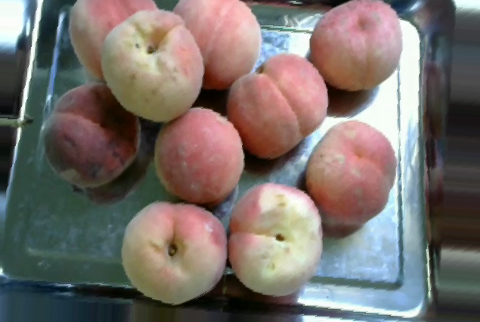Peach: (99, 10, 206, 122), (227, 182, 323, 299), (120, 202, 226, 305), (226, 52, 328, 159), (304, 118, 395, 231), (43, 81, 135, 188), (300, 0, 400, 91), (154, 106, 242, 205), (173, 0, 262, 90)
